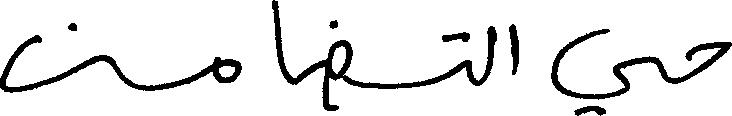X: (553, 24, 653, 115), (0, 18, 103, 97), (327, 15, 351, 115), (685, 37, 731, 85), (485, 19, 518, 85), (273, 0, 287, 86), (215, 52, 240, 87)
